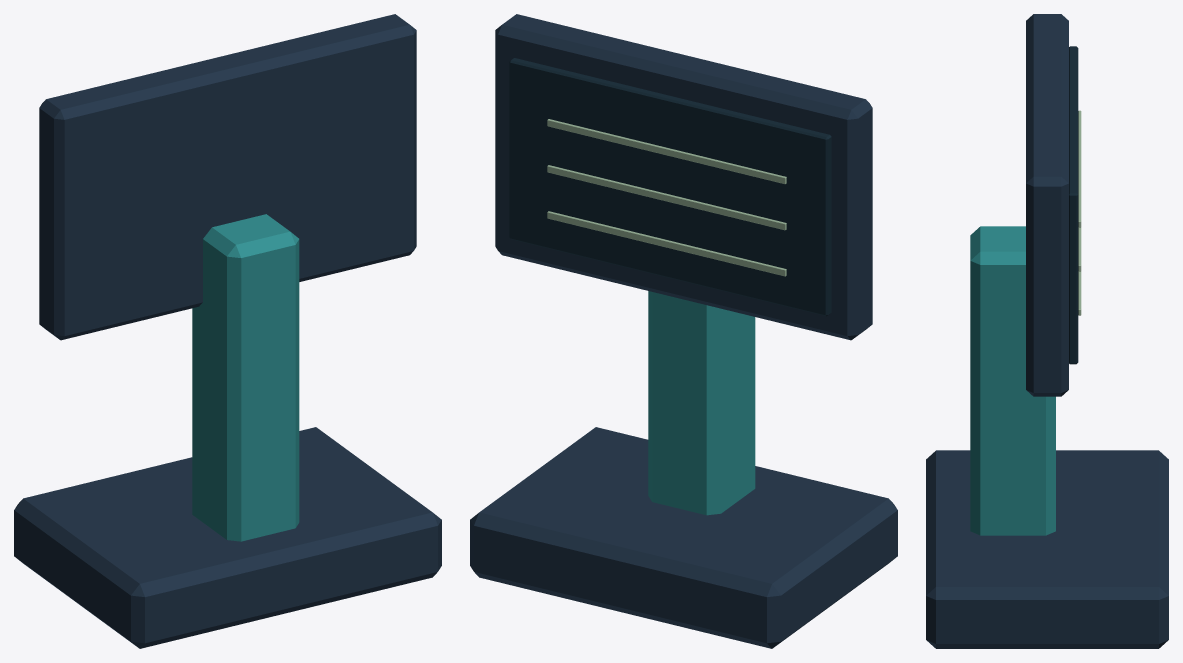
The model's file is SM_Terminal.obj.
The picture shows the model from 3 angles, left to right: view 1: azimuth 30°, elevation 25°; view 2: azimuth 150°, elevation 25°; view 3: azimuth 270°, elevation 25°; orthographic projection. The views are drawn at different scales.
Parts seen in each view (by area): view 1: SM_Terminal; view 2: SM_Terminal; view 3: SM_Terminal.
Part boxes in pixels (bbox=[...]): SM_Terminal: bbox=[14, 14, 441, 648]; SM_Terminal: bbox=[470, 14, 897, 648]; SM_Terminal: bbox=[926, 14, 1168, 648].
Bounding box in the file's own units: 1.4 × 1.88 × 0.85.
